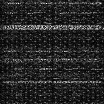lte: (1, 25, 104, 30), (1, 80, 104, 83), (1, 49, 104, 52)
